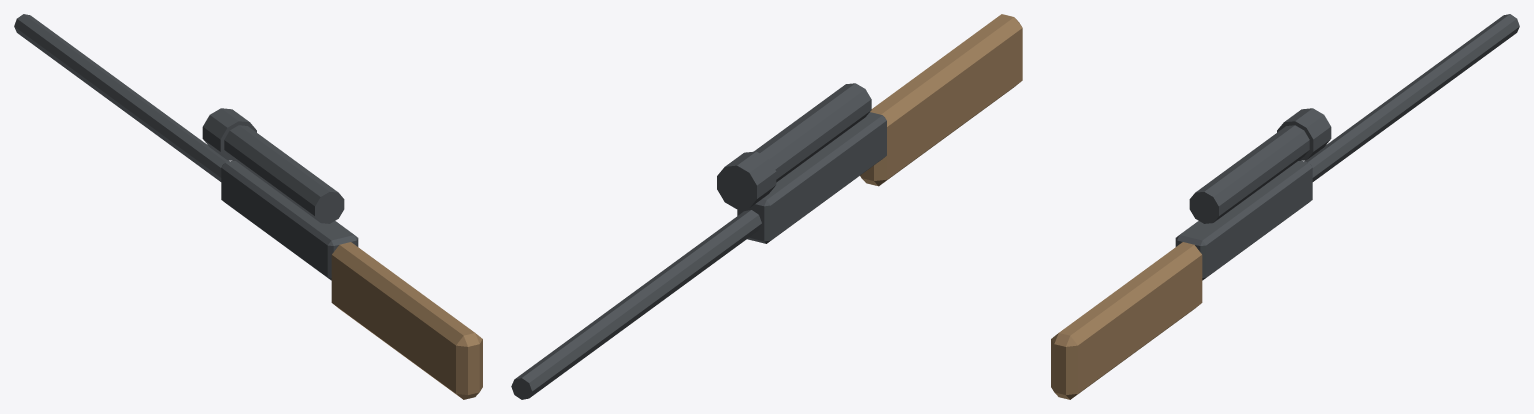
Rendered from rifle.glb.
The picture shows the model from 3 angles, left to right: view 1: azimuth 30°, elevation 25°; view 2: azimuth 150°, elevation 25°; view 3: azimuth 330°, elevation 25°; orthographic projection. The views are drawn at different scales.
Visible parts, largest first — view 1: stock, receiver, barrel, scope, scopeLens; view 2: stock, barrel, receiver, scope, scopeLens; view 3: stock, receiver, barrel, scope, scopeLens.
Part boxes in pixels (<box>): stock: <box>331,242,482,399</box>; receiver: <box>221,161,358,280</box>; barrel: <box>14,14,229,181</box>; scope: <box>224,125,344,223</box>; scopeLens: <box>202,108,256,160</box>; stock: <box>860,14,1022,186</box>; barrel: <box>511,210,761,399</box>; receiver: <box>737,112,886,243</box>; scope: <box>754,83,871,182</box>; scopeLens: <box>717,151,776,209</box>; stock: <box>1051,242,1202,399</box>; receiver: <box>1175,161,1312,280</box>; barrel: <box>1304,14,1519,181</box>; scope: <box>1189,125,1309,223</box>; scopeLens: <box>1277,108,1331,160</box>.
Bounding box in the file's own units: 0.0951 × 0.27 × 2.03.
